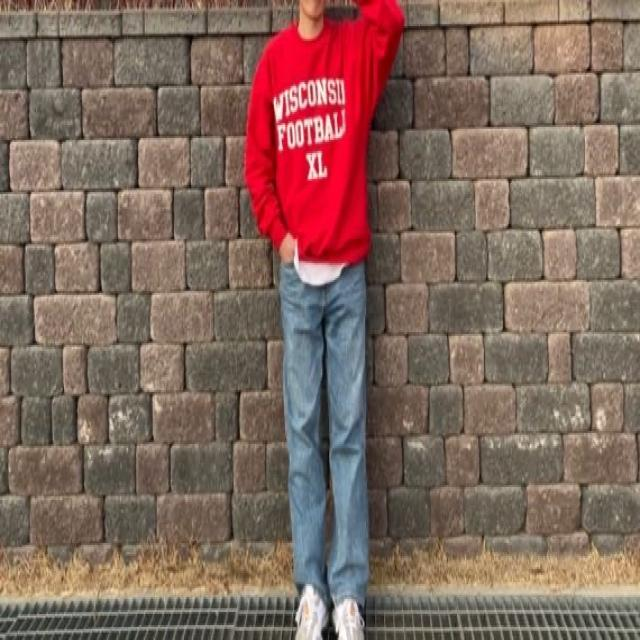denimpants: (277, 255, 368, 600)
mtm: (241, 2, 402, 267)
